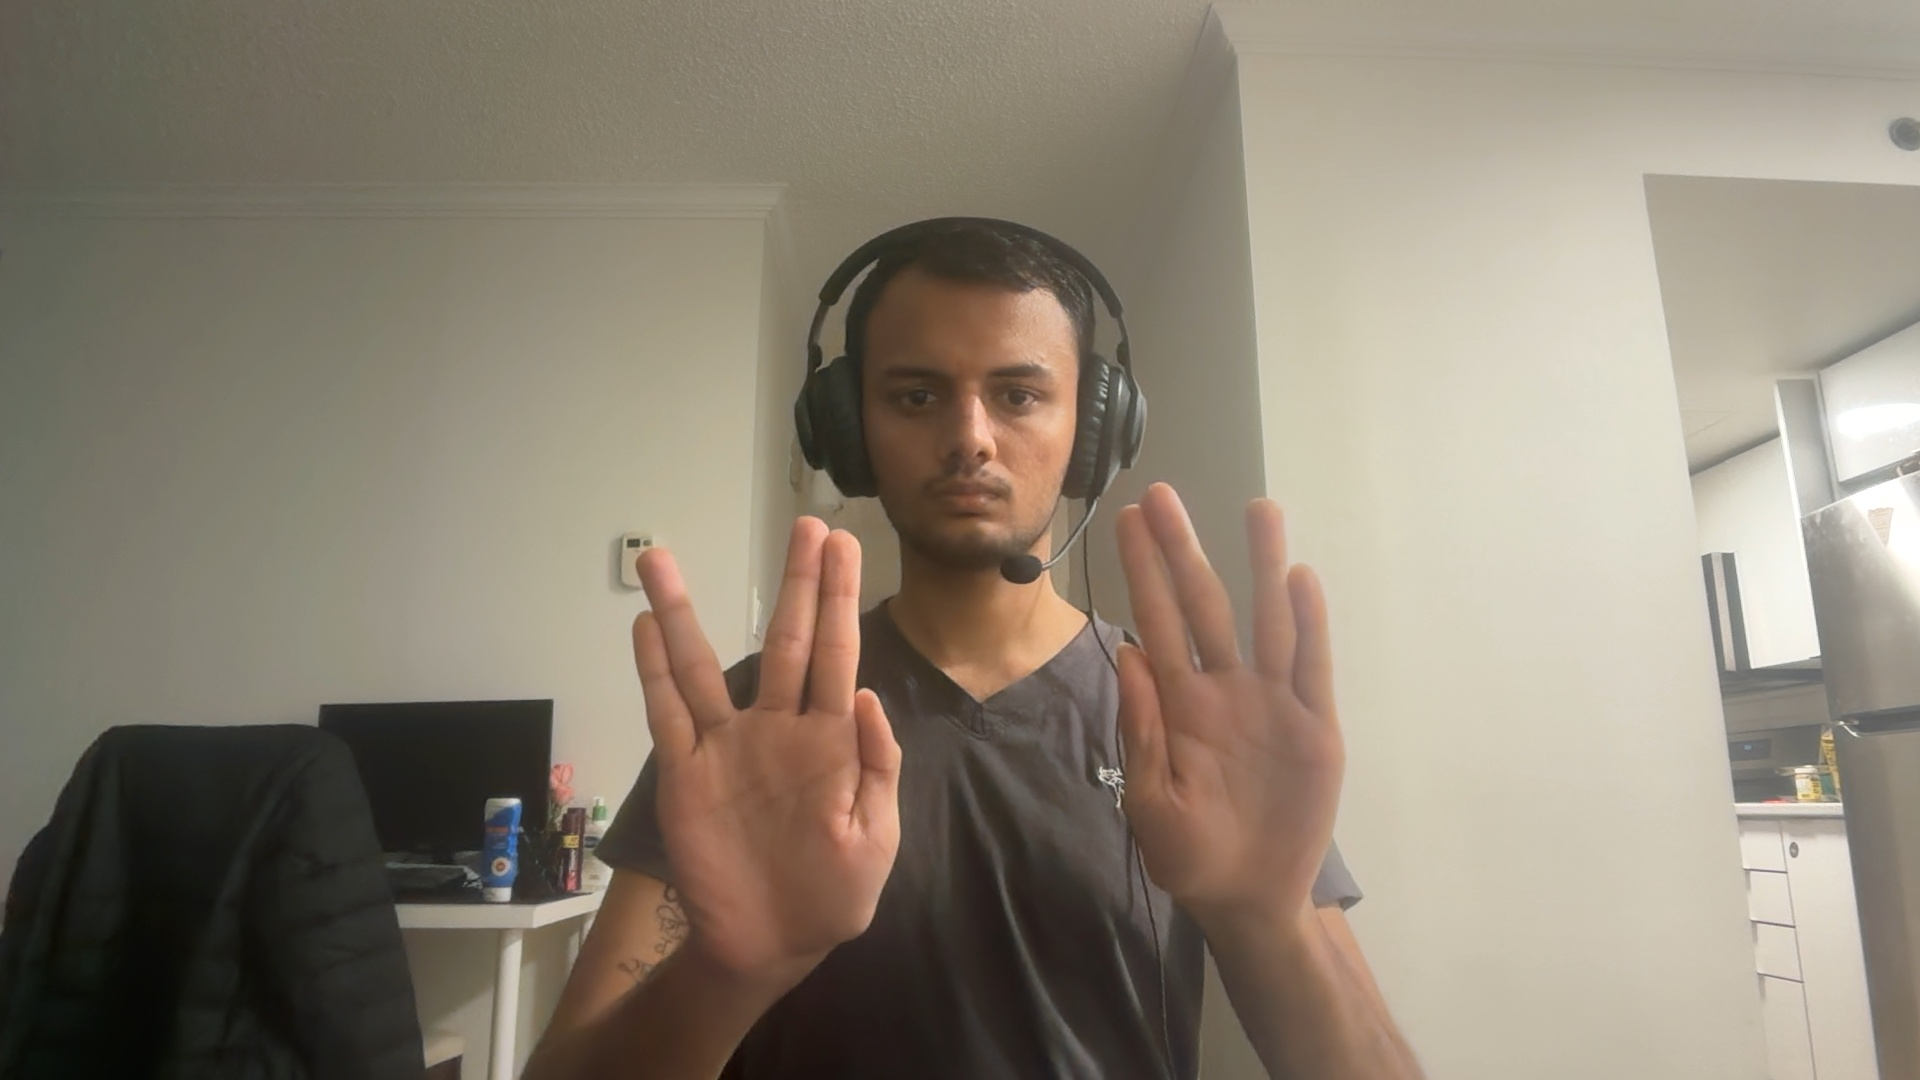livelong: (1116, 481, 1346, 901)
